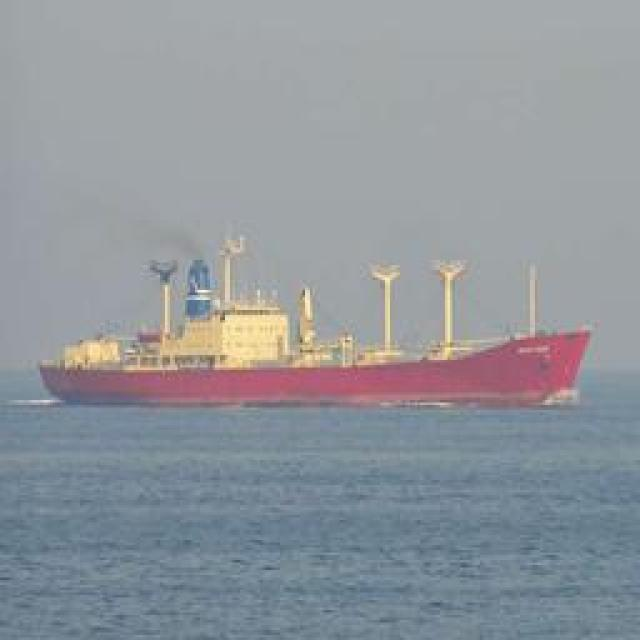ship2: (36, 242, 594, 413)
